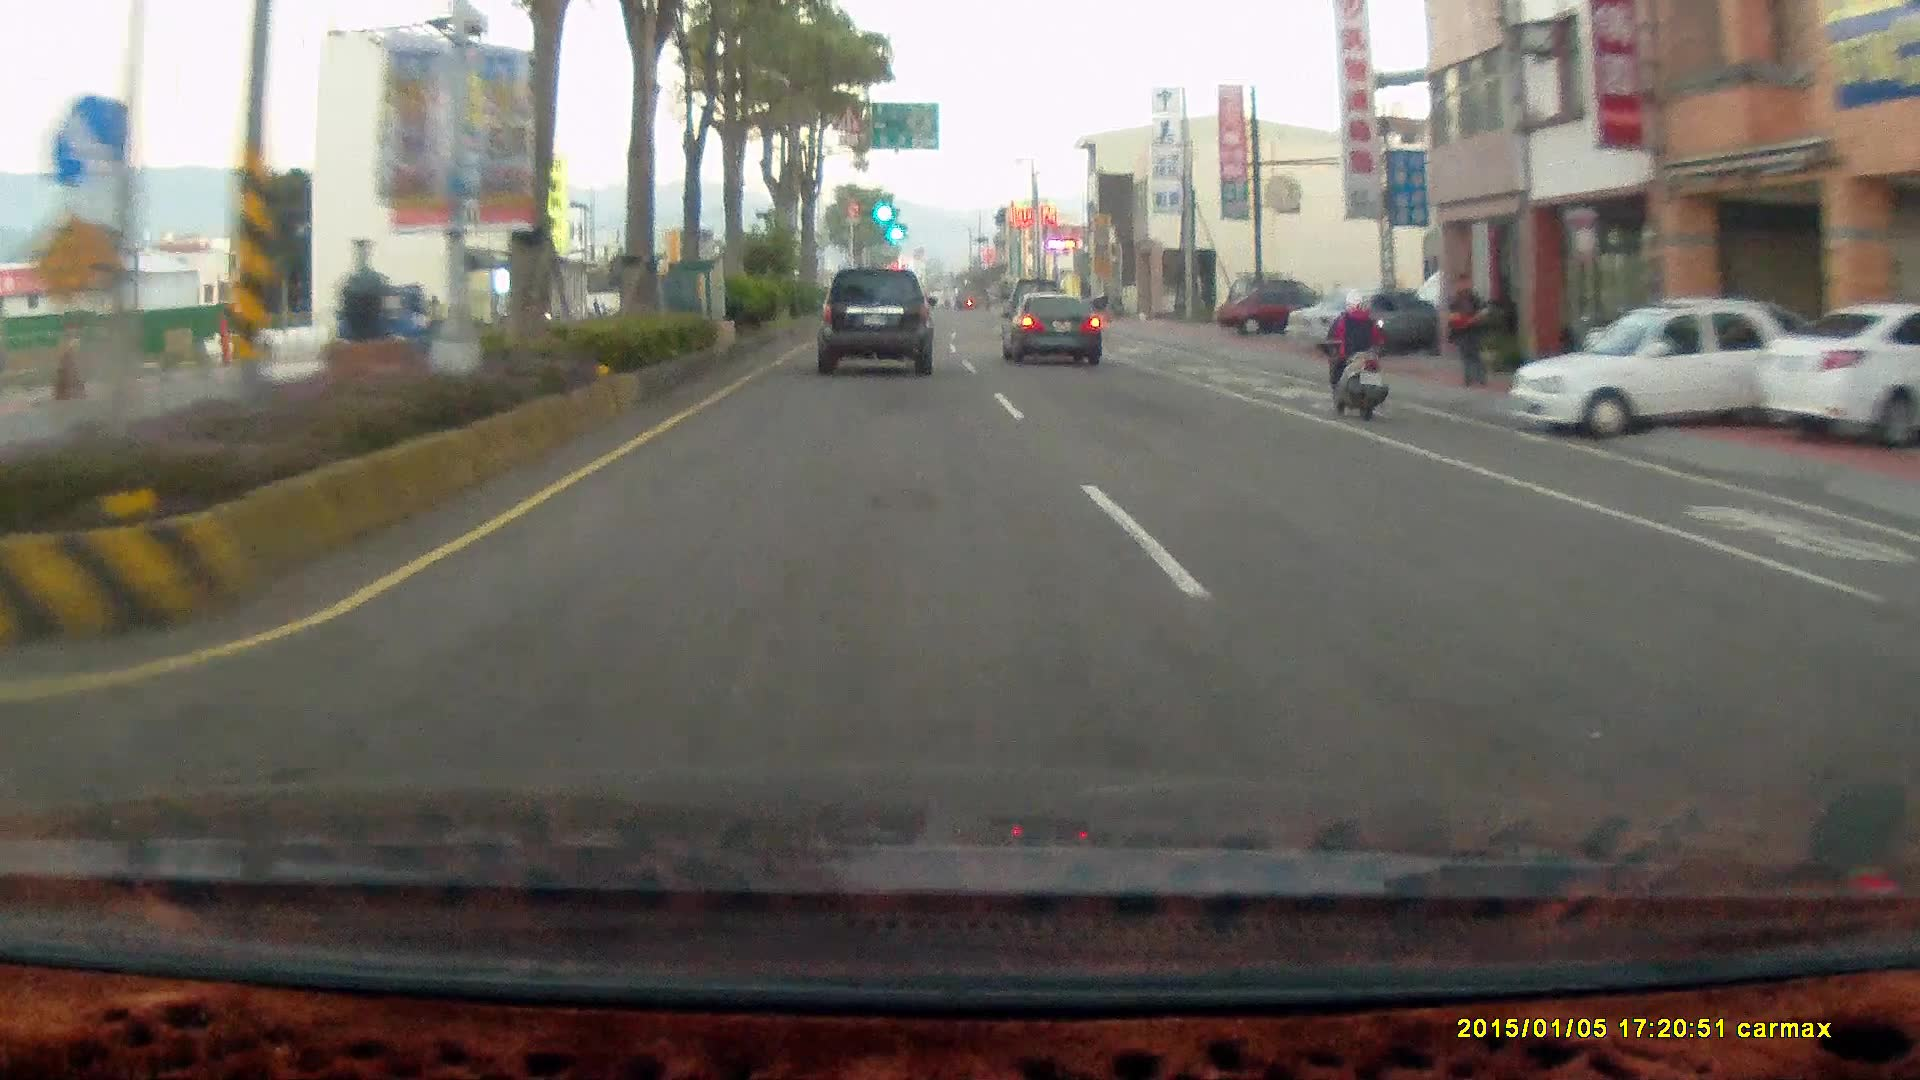pedestrian: (1441, 272, 1493, 388)
rider: (1312, 280, 1401, 429), (1321, 290, 1388, 421)
vehicle: (1509, 298, 1821, 452), (1507, 300, 1804, 439), (1756, 303, 1920, 451), (1755, 303, 1919, 450), (810, 266, 941, 386), (815, 268, 937, 377), (1283, 293, 1454, 367), (1285, 291, 1461, 359), (998, 289, 1102, 366), (1001, 295, 1104, 367), (1217, 288, 1338, 333)
